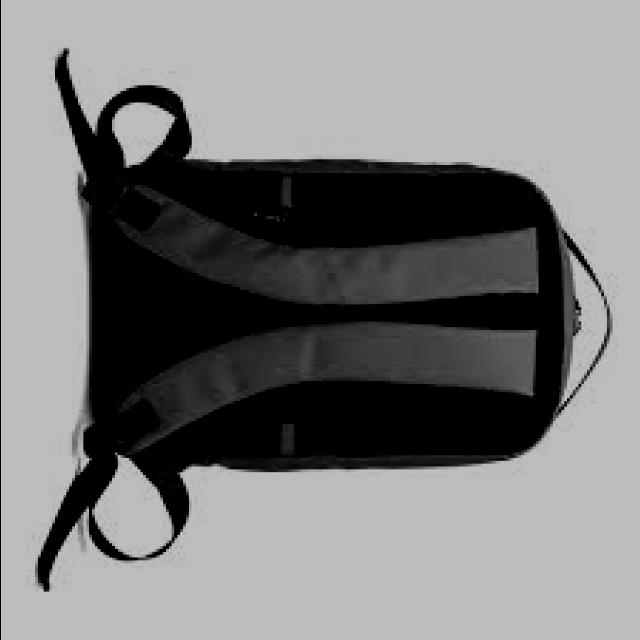backpack: (38, 47, 616, 593)
